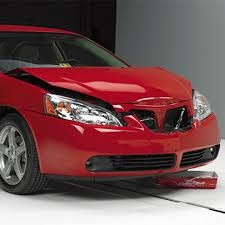Dent: (94, 78, 194, 111)
